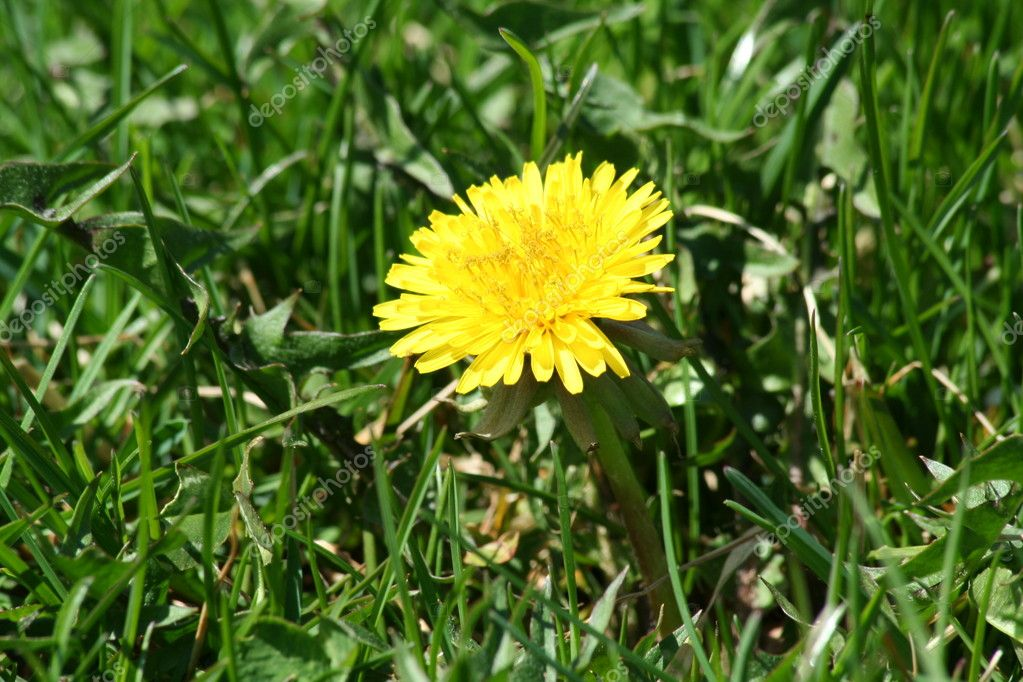dandelion: (372, 161, 673, 391)
